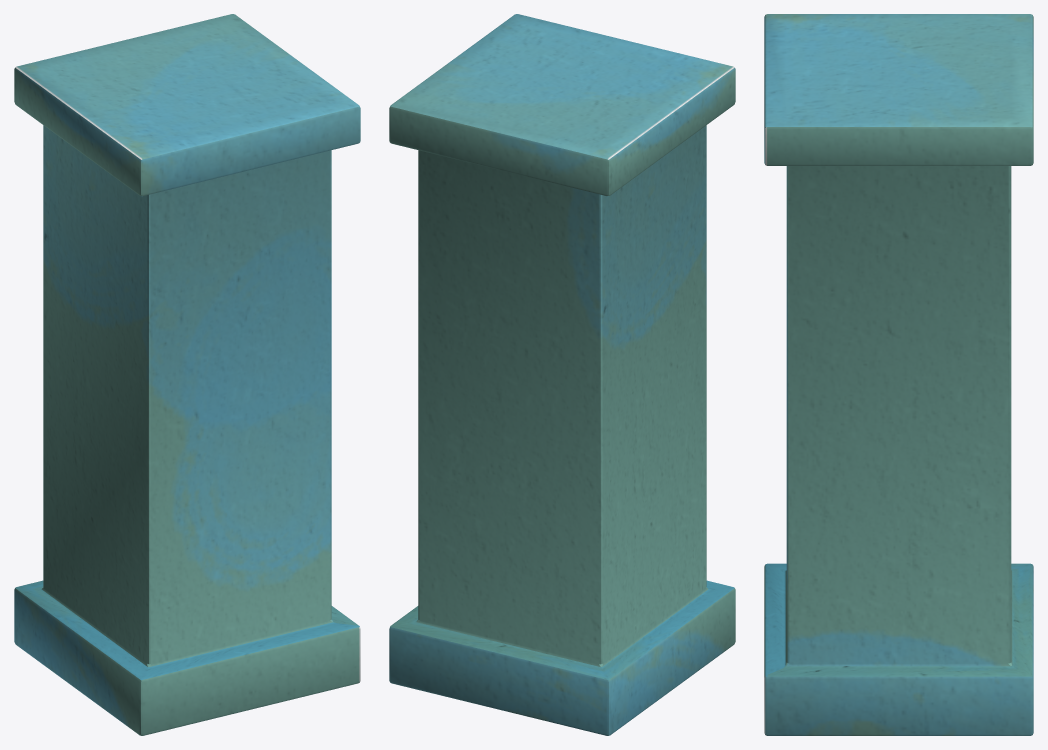
The model's file is TOMB_PILLAR_BIG.obj.
3 renders of one model, left to right at view 1: azimuth 30°, elevation 25°; view 2: azimuth 150°, elevation 25°; view 3: azimuth 270°, elevation 25°, orthographic. The views are drawn at different scales.
Parts seen in each view (by area): view 1: TOMB_PILLAR_BIG.003; view 2: TOMB_PILLAR_BIG.003; view 3: TOMB_PILLAR_BIG.003.
Boxes of the visible parts, x1=… form: TOMB_PILLAR_BIG.003: x1=14, y1=14, x2=360, y2=735; TOMB_PILLAR_BIG.003: x1=389, y1=14, x2=735, y2=735; TOMB_PILLAR_BIG.003: x1=764, y1=14, x2=1033, y2=735.
Size of the model in its own units: 1.2 by 3 by 1.2.
